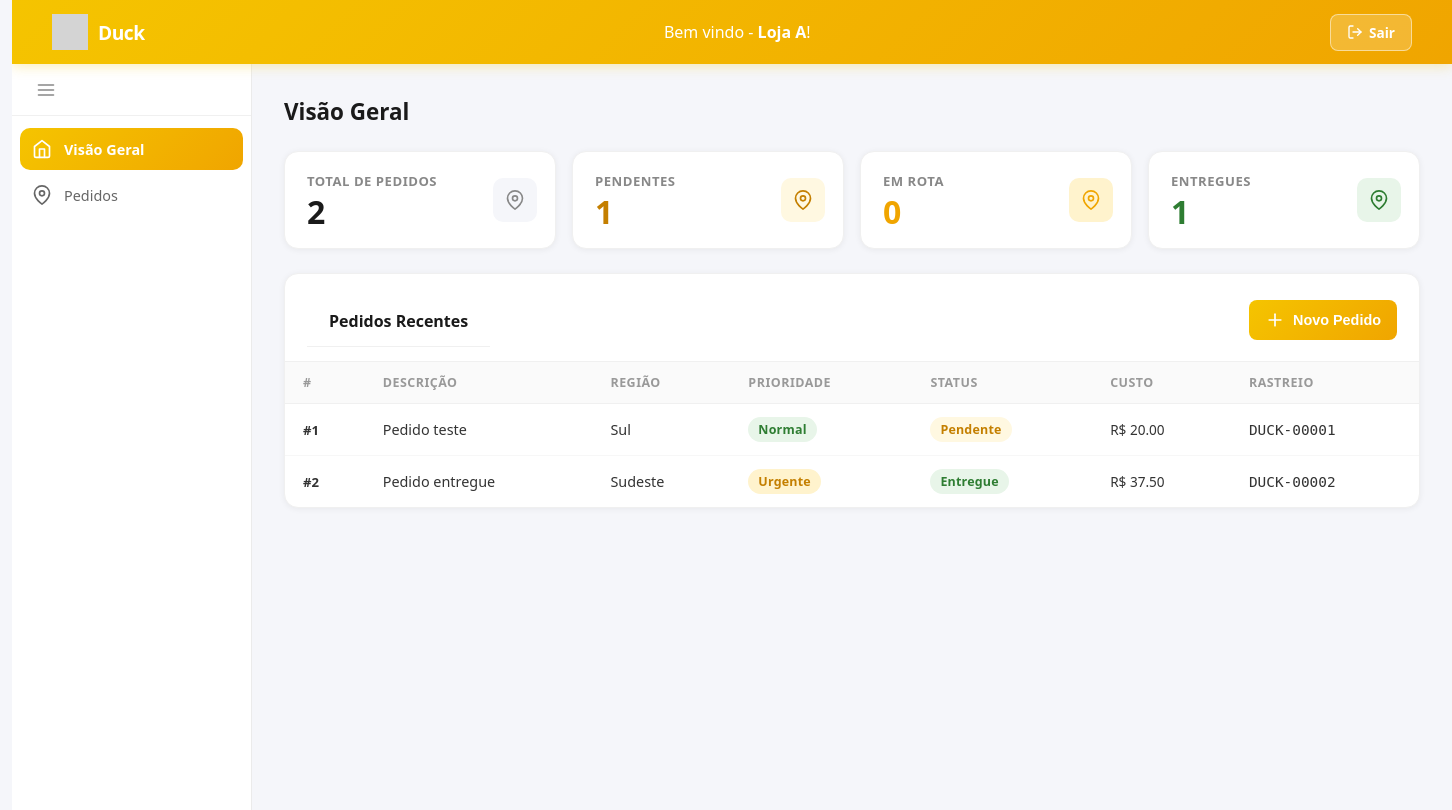
Test case: LojistaDashboard › navega para a seção Pedidos ao clicar no menu
Expected: the heading "Pedidos Recentes" is shown, [307,292,490,347]
Click the button "Pedidos".
click(132, 195)  # box [20,174,243,216]
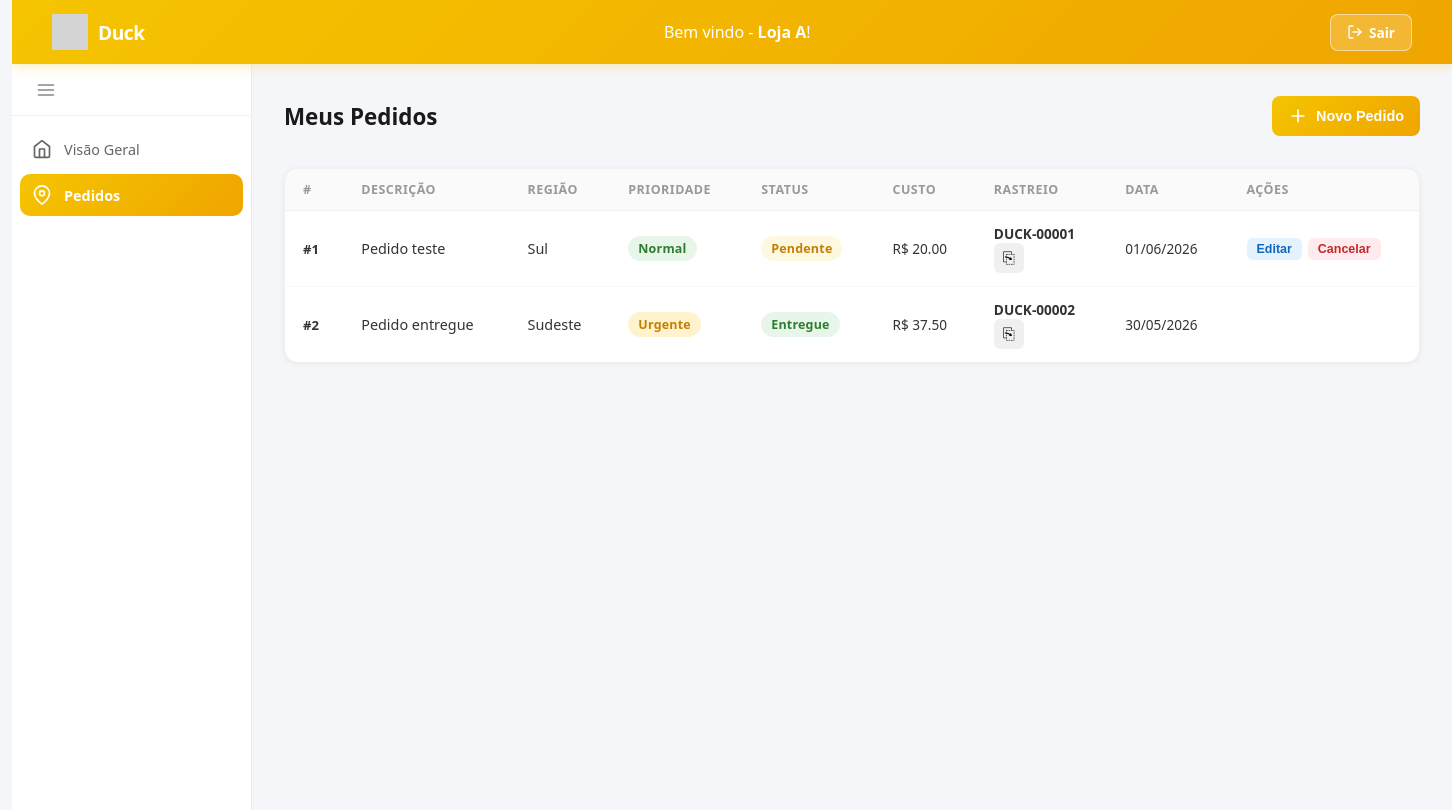
Expected: the heading "Meus Pedidos" is shown, [284,100,438,132]
